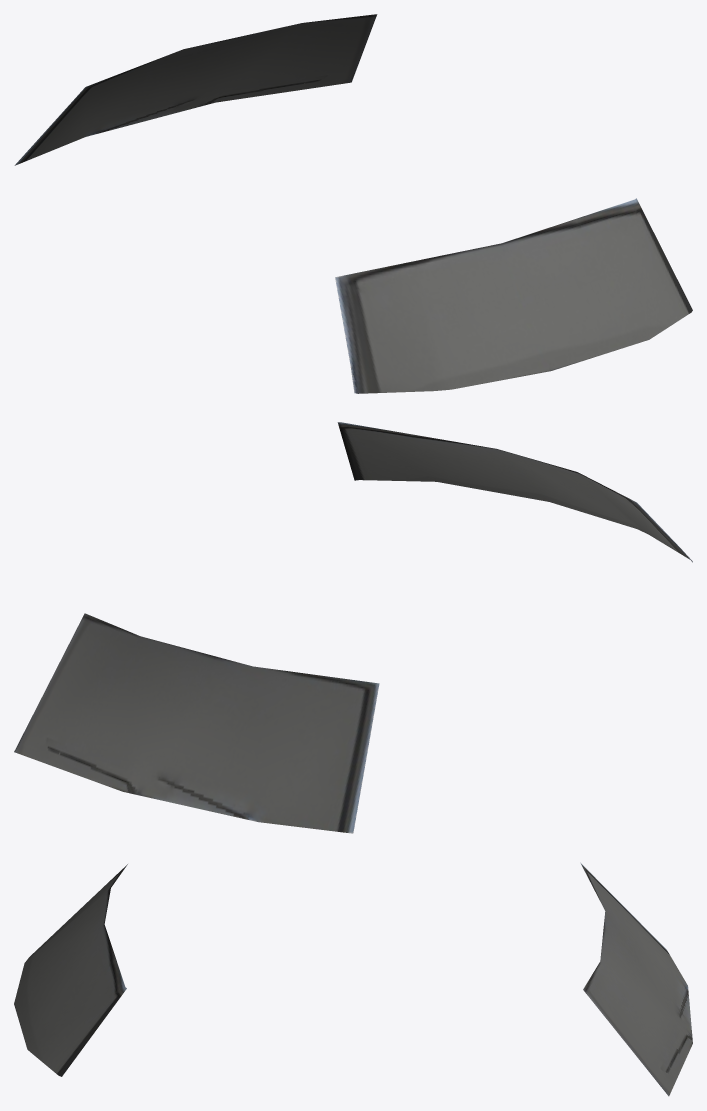
Rendered from SM_AbandonedCar_Glass.fbx.
3 renders of one model, top to bottom at view 1: azimuth 30°, elevation 25°; view 2: azimuth 150°, elevation 25°; view 3: azimuth 270°, elevation 25°, orthographic. The views are drawn at different scales.
Visible parts, largest first — view 1: SM_AbandonedCar_Glass; view 2: SM_AbandonedCar_Glass; view 3: SM_AbandonedCar_Glass.
Part boxes in pixels (bbox=[...]): SM_AbandonedCar_Glass: bbox=[14, 14, 692, 393]; SM_AbandonedCar_Glass: bbox=[14, 422, 692, 833]; SM_AbandonedCar_Glass: bbox=[14, 862, 692, 1096].
Bounding box in the file's own units: 120 × 38 × 234.
Materials: 1 (1 with a texture image).
